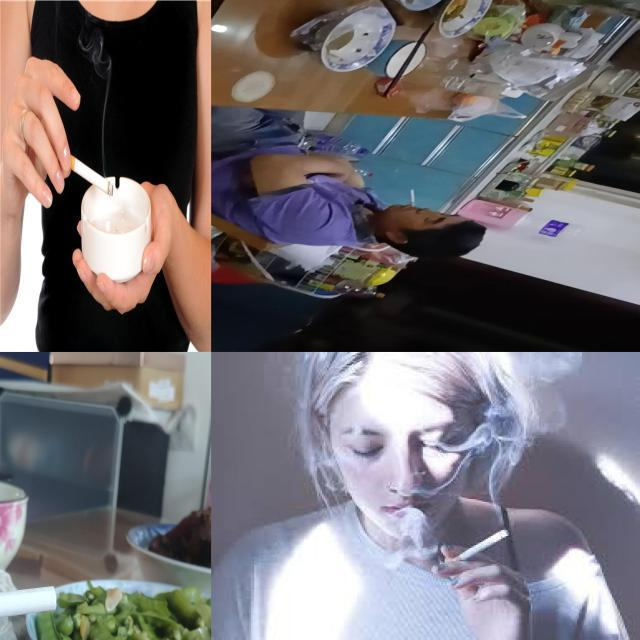smoking: (0, 586, 58, 640), (56, 148, 114, 198), (442, 530, 509, 568), (411, 190, 415, 207)
